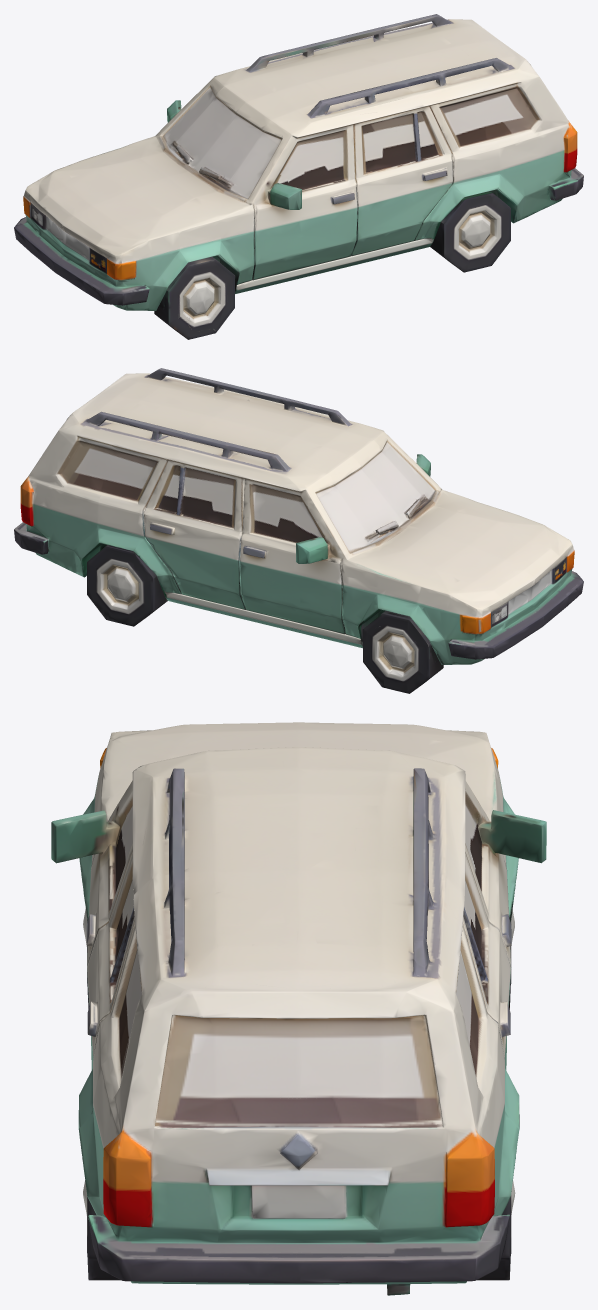
File: car6.fbx
The picture shows the model from 3 angles, top to bottom: view 1: azimuth 30°, elevation 25°; view 2: azimuth 150°, elevation 25°; view 3: azimuth 270°, elevation 25°; orthographic projection. The views are drawn at different scales.
Parts seen in each view (by area): view 1: node_0; view 2: node_0; view 3: node_0.
Part boxes in pixels (x1,y1,x2,y2): node_0: (14,14,583,339); node_0: (14,368,583,693); node_0: (51,722,546,1295).
Bounding box in the file's own units: 114 × 41.15 × 50.22.
